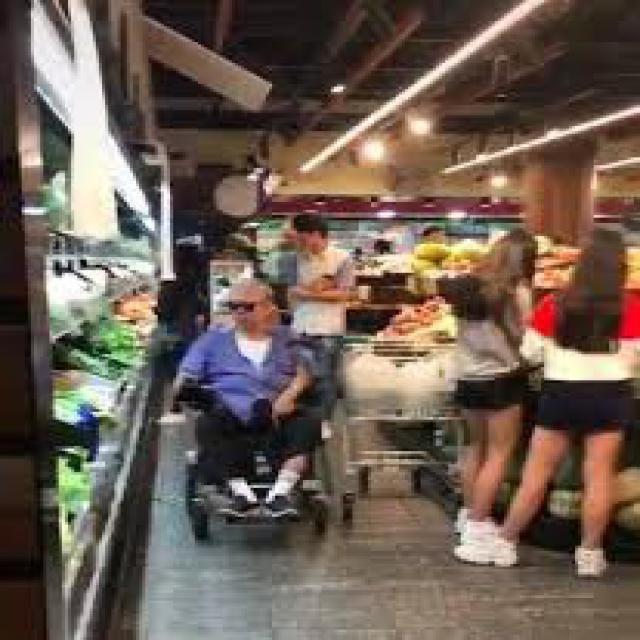wheelchairs: (167, 330, 334, 532)
